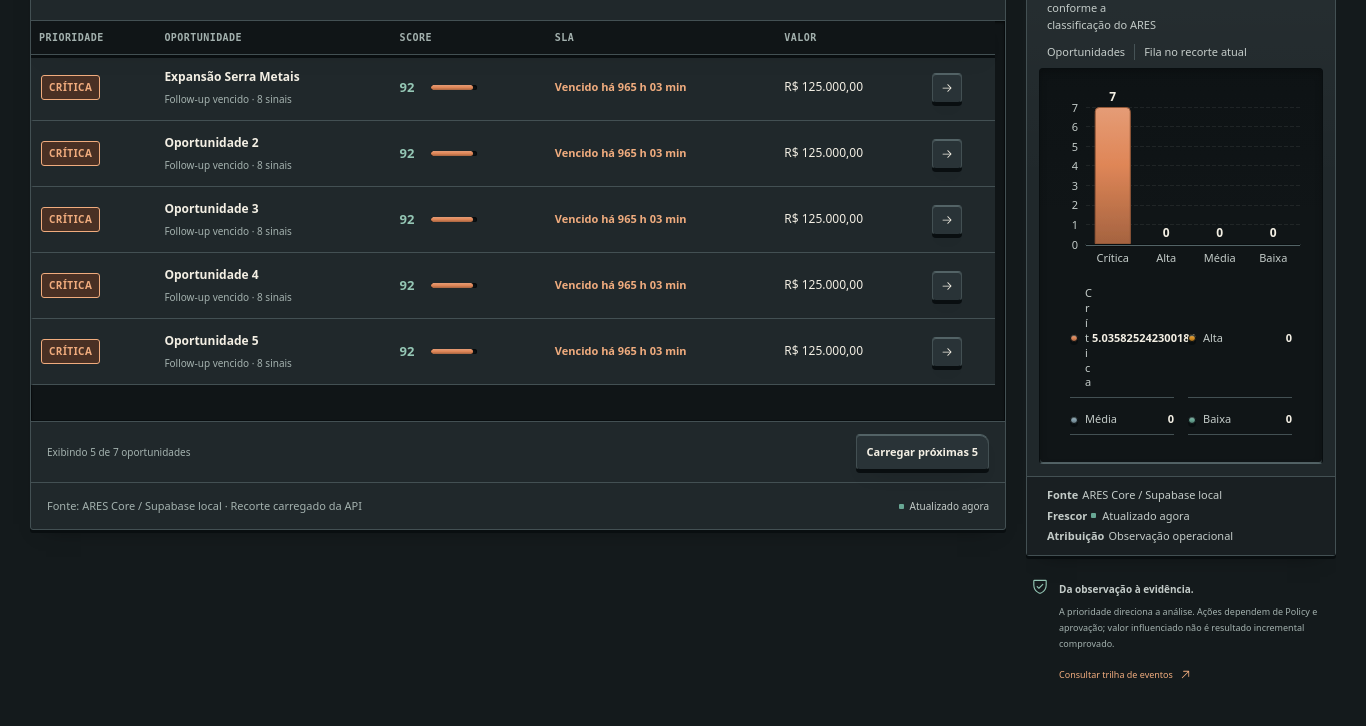
Test: reveals the priority queue and loads subsequent API pages (paginated=false)
(page scrolled)
Expected: the number of pictures named "Score 92 de 100" is 5, [430,85,476,90]; [430,151,476,156]; [430,217,476,222]; [430,283,476,288]; [430,349,476,354]
Expected: the text "Exibindo 5 de 7 oportunidades" is shown, [47,444,190,460]
Step 1. Click the button "Carregar próximas 5" → [922, 452], box [856,434,989,470]
(page scrolled)
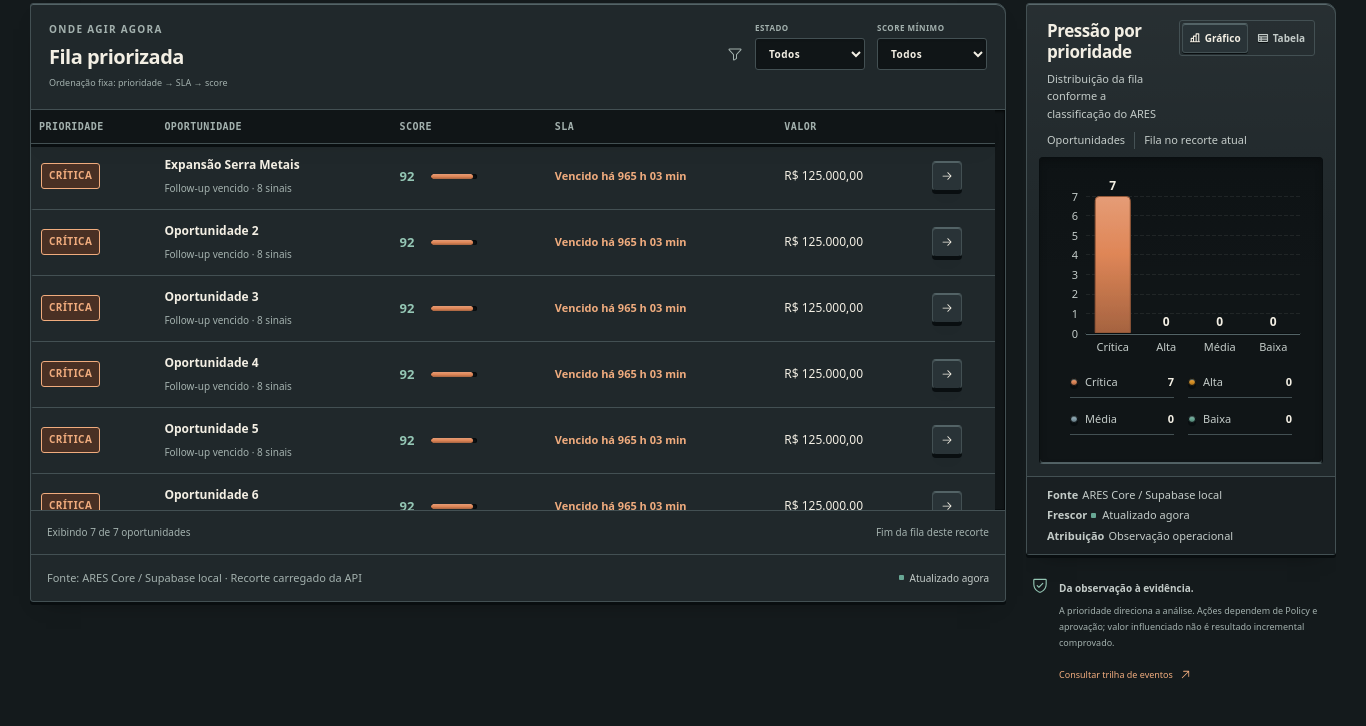
Now the link "Oportunidade 6" is shown, box [164,486,259,503]
Now the text "Exibindo 7 de 7 oportunidades" is shown, box [47,524,190,540]
